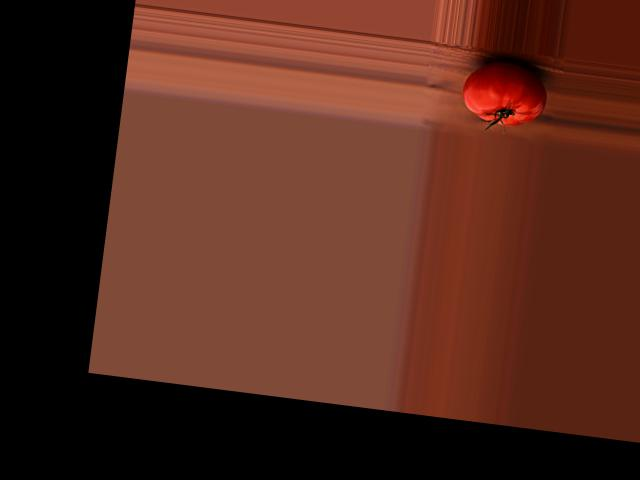tomato: (458, 56, 549, 129)
